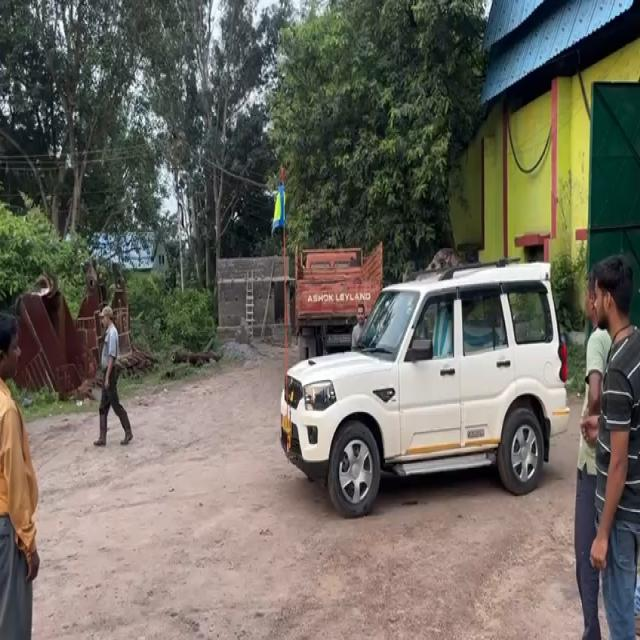light_vehicle: (280, 275, 569, 497)
